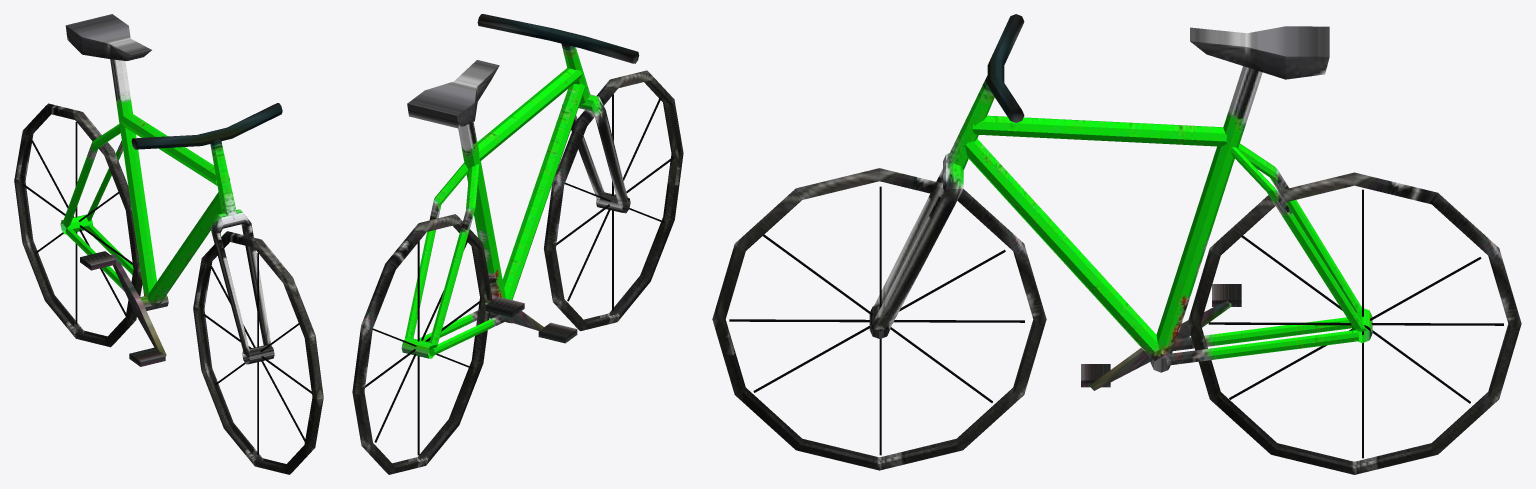
The model's file is bike_green.obj.
3 views of the same model, side by side, from view 1: azimuth 30°, elevation 25°; view 2: azimuth 150°, elevation 25°; view 3: azimuth 270°, elevation 25° (orthographic). The views are drawn at different scales.
Bounding box in the file's own units: 2.6 × 5.68 × 9.44.
2 materials, 2 textured.
